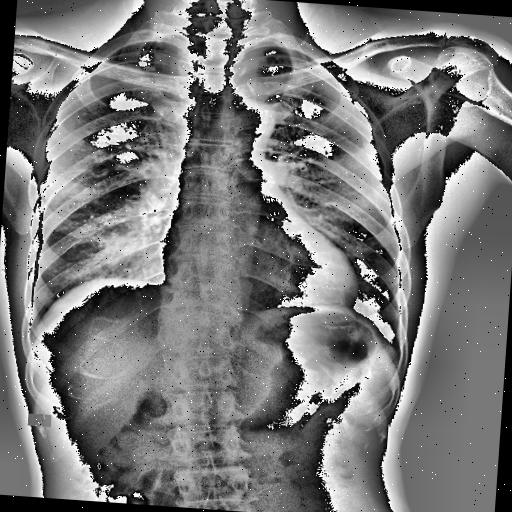0- Aortic enlargement: (220, 87, 286, 154), (220, 97, 276, 141)
13- Pulmonary fibrosis: (143, 38, 162, 72)
3- Cardiomegaly: (154, 233, 363, 315), (159, 236, 363, 312)
6- Infiltration: (63, 202, 156, 286)
7- Lung Opacity: (60, 183, 160, 282)
8- Nodule-Mass: (142, 63, 158, 72), (144, 62, 156, 72)
9- Other lesion: (142, 63, 158, 72)
